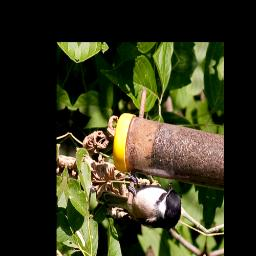Swallow: (120, 170, 186, 235)
